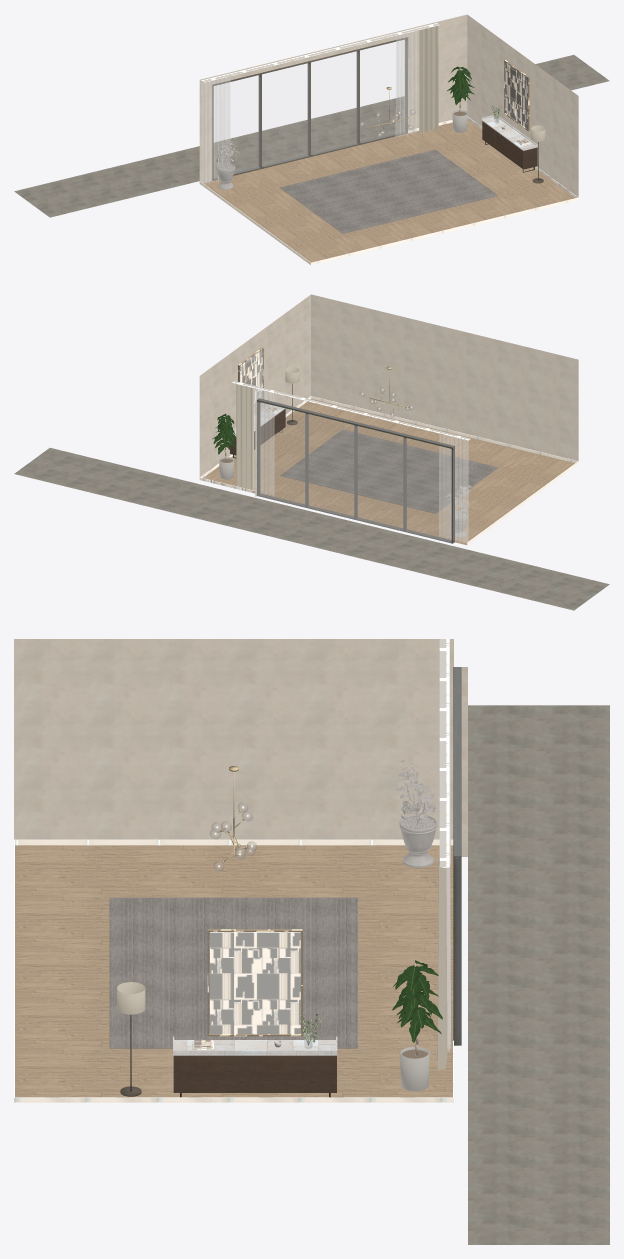
Rendered from room_v2.glb.
3 renders of one model, top to bottom at view 1: azimuth 30°, elevation 25°; view 2: azimuth 150°, elevation 25°; view 3: azimuth 270°, elevation 25°, orthographic. The views are drawn at different scales.
Visible parts, largest first — view 1: room_floor, room_terrace, room_rug, room_wall_right, room_wall_window, room_curtains, room_window, room_credenza, room_art, room_fig, room_wall_front, room_plants (+1 smaller); view 2: room_wall_front, room_terrace, room_floor, room_rug, room_wall_right, room_curtains, room_window, room_wall_window, room_credenza, room_fig, room_art, room_plants; view 3: room_wall_left, room_terrace, room_floor, room_rug, room_art, room_credenza, room_wall_window, room_fig, room_window, room_curtains, room_plants, room_wall_right (+1 smaller).
Part boxes in pixels (bbox=[...]): room_floor: bbox=[203, 119, 574, 262]; room_terrace: bbox=[14, 55, 609, 217]; room_rug: bbox=[280, 149, 498, 233]; room_wall_right: bbox=[467, 14, 578, 199]; room_wall_window: bbox=[199, 14, 467, 182]; room_curtains: bbox=[202, 26, 438, 184]; room_window: bbox=[212, 37, 408, 180]; room_credenza: bbox=[481, 105, 537, 172]; room_art: bbox=[504, 59, 529, 131]; room_fig: bbox=[447, 66, 474, 132]; room_wall_front: bbox=[311, 197, 578, 265]; room_plants: bbox=[216, 139, 239, 189]; room_wall_front: bbox=[311, 294, 578, 463]; room_terrace: bbox=[14, 448, 609, 610]; room_floor: bbox=[203, 399, 574, 545]; room_rug: bbox=[280, 429, 498, 513]; room_wall_right: bbox=[199, 294, 311, 477]; room_curtains: bbox=[236, 384, 468, 543]; room_window: bbox=[257, 398, 454, 543]; room_wall_window: bbox=[199, 381, 470, 496]; room_credenza: bbox=[230, 404, 285, 458]; room_fig: bbox=[212, 413, 236, 479]; room_art: bbox=[238, 347, 263, 407]; room_plants: bbox=[446, 482, 471, 537]; room_wall_left: bbox=[14, 639, 453, 845]; room_terrace: bbox=[468, 705, 609, 1244]; room_floor: bbox=[15, 845, 453, 1097]; room_rug: bbox=[109, 897, 357, 1048]; room_art: bbox=[207, 929, 302, 1036]; room_credenza: bbox=[173, 1014, 337, 1097]; room_wall_window: bbox=[439, 639, 467, 1097]; room_fig: bbox=[392, 960, 442, 1091]; room_window: bbox=[453, 667, 461, 1045]; room_curtains: bbox=[437, 643, 450, 1070]; room_plants: bbox=[391, 760, 437, 867]; room_wall_right: bbox=[14, 1097, 453, 1102].
Size of the model in its own units: 18 by 3.22 by 8.4.
Materials: 42 (20 with a texture image).
